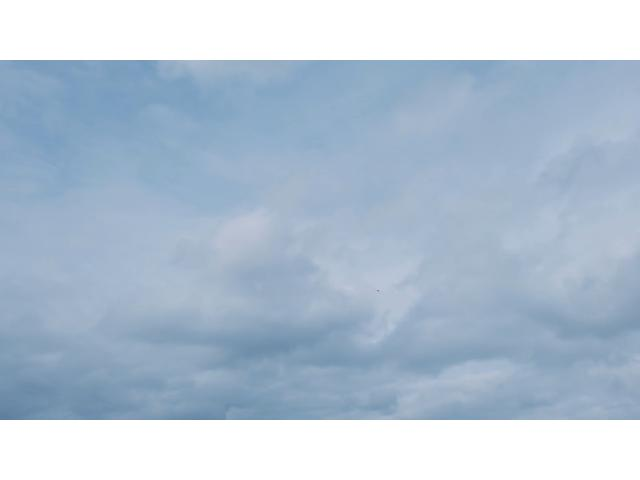Anti-Drone: (374, 286, 382, 298)
